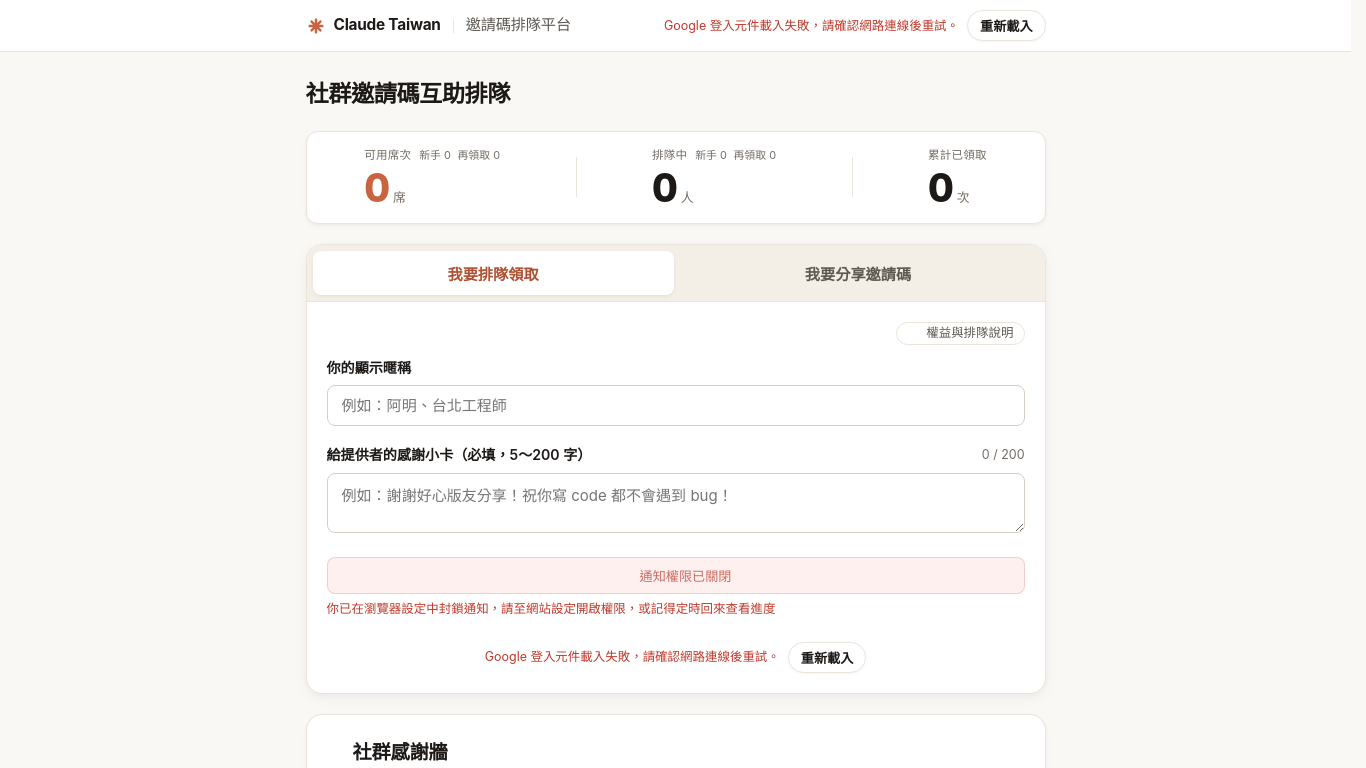
it: Google 官方按鈕登入（正式環境） › 登入後使用者已填的感謝小卡仍留在輸入框
Type "謝謝你的分享" into the text box labelled "給提供者的感謝小卡（必填，5～200 字）" at (676, 502), box [326,472,1024,532]
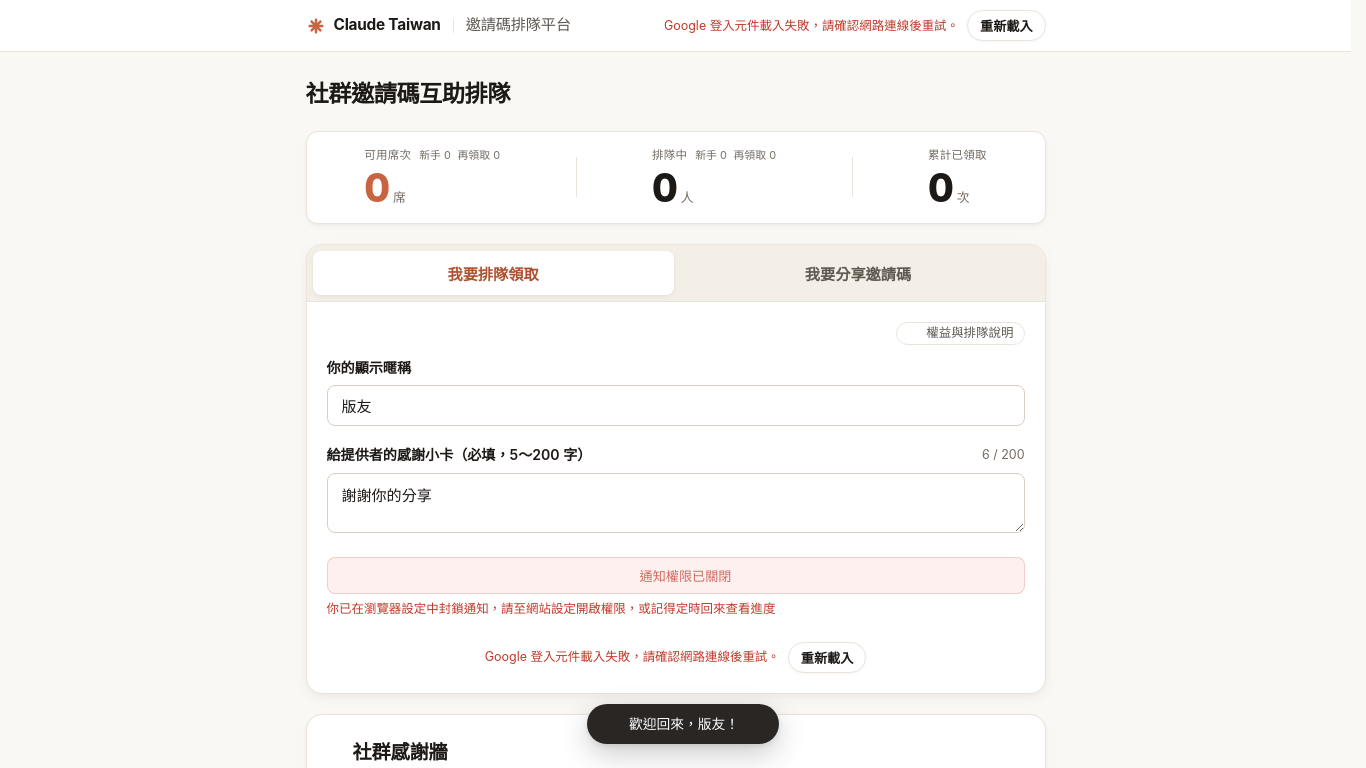
Check: the text "歡迎回來，版友！" is shown, box [629,713,739,735]
